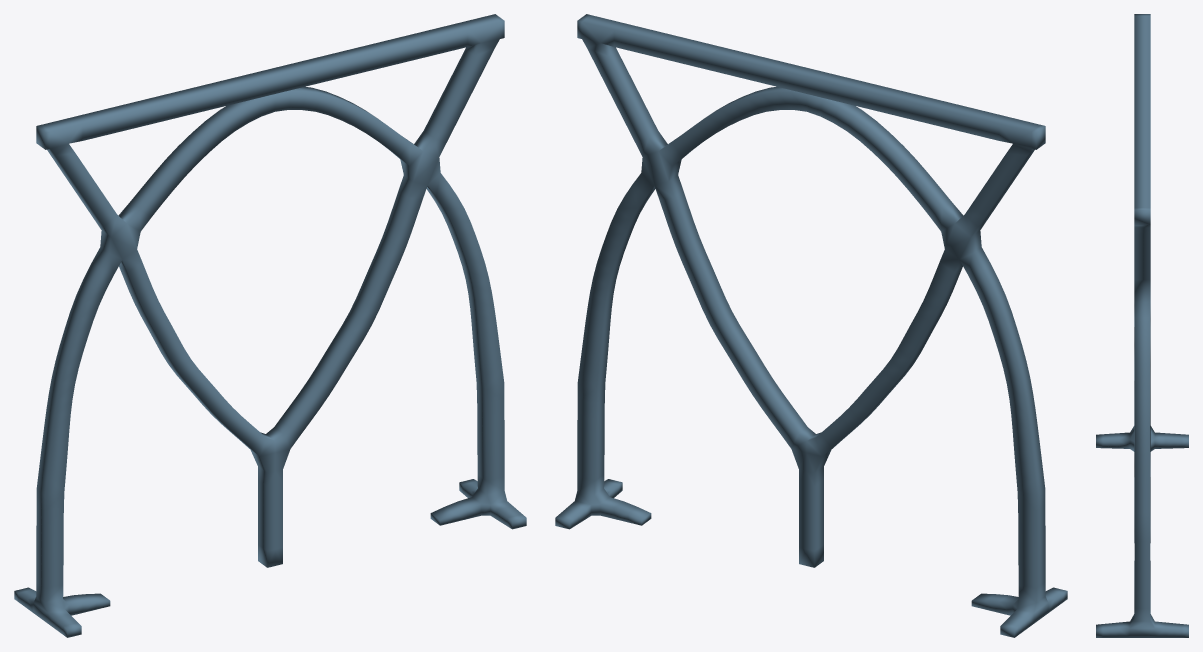
Rendered from MetalDecor1.fbx.
3 views of the same model, side by side, from view 1: azimuth 30°, elevation 25°; view 2: azimuth 150°, elevation 25°; view 3: azimuth 270°, elevation 25° (orthographic). The views are drawn at different scales.
Visible parts, largest first — view 1: WallBars.001; view 2: WallBars.001; view 3: WallBars.001.
Boxes of the visible parts, x1,y1,x2,y2 form: WallBars.001: (14,14,526,637); WallBars.001: (555,14,1067,637); WallBars.001: (1096,14,1188,637).
Size of the model in its own units: 4 by 4.07 by 0.8.
